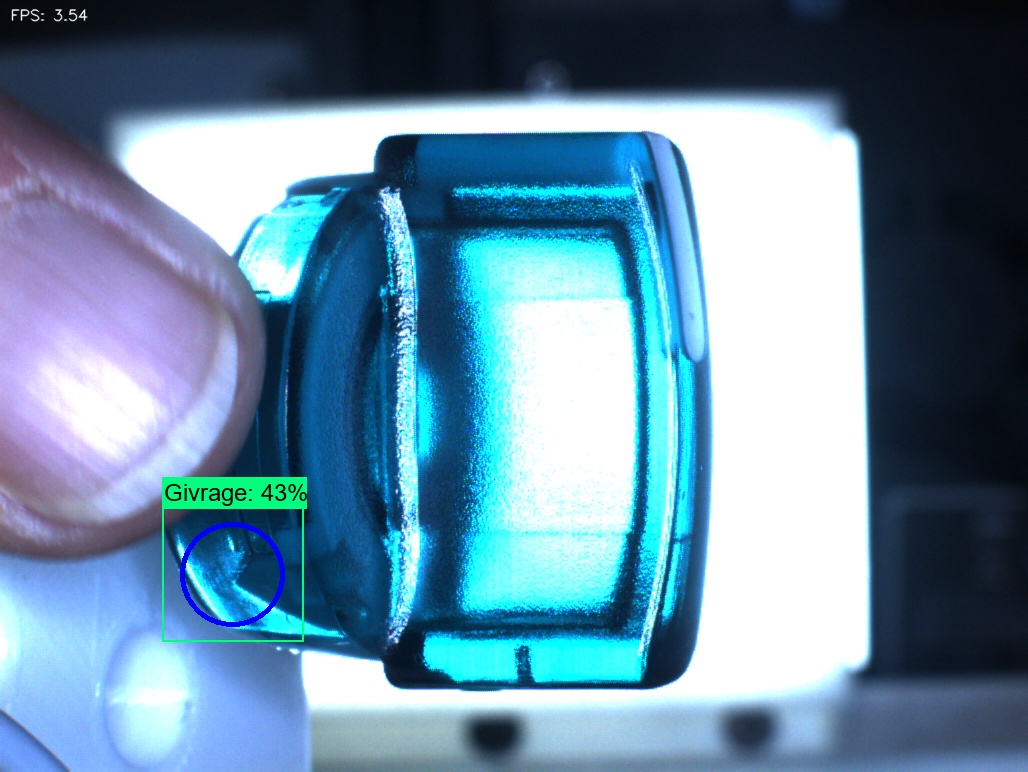Bulle: (484, 633, 564, 708)
